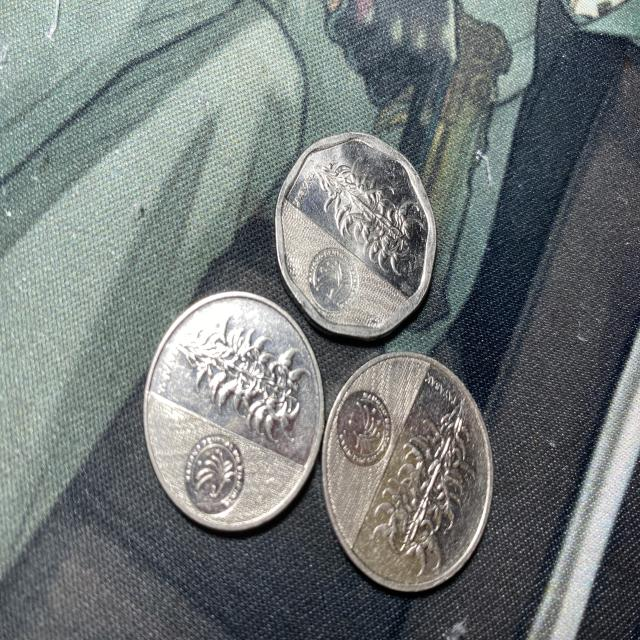5_New_Back: (382, 398, 469, 580), (172, 320, 304, 439), (314, 161, 422, 274)
